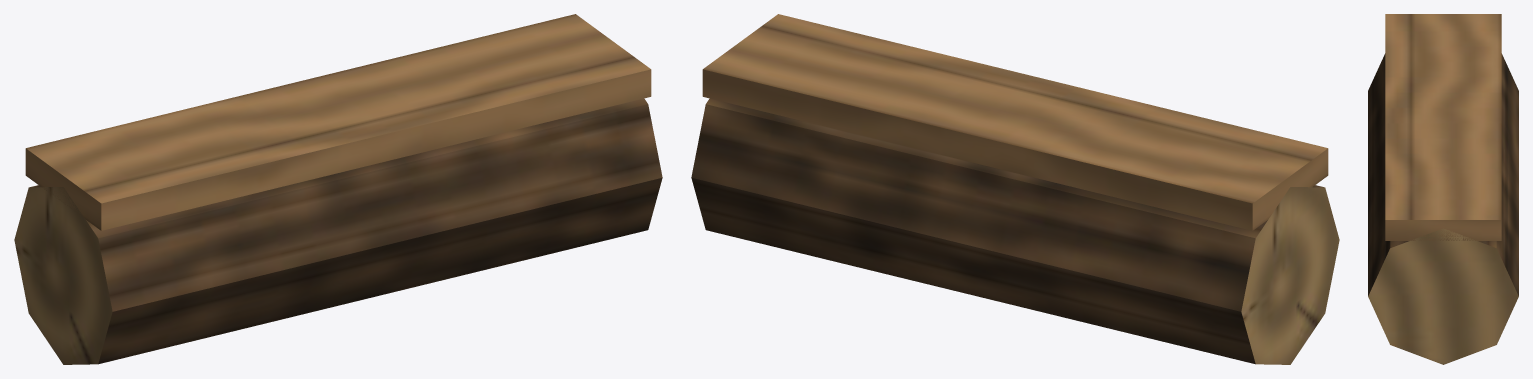
Rendered from prop_houtblok.glb.
3 views of the same model, side by side, from view 1: azimuth 30°, elevation 25°; view 2: azimuth 150°, elevation 25°; view 3: azimuth 270°, elevation 25° (orthographic). The views are drawn at different scales.
Parts seen in each view (by area): view 1: prop_houtblok; view 2: prop_houtblok; view 3: prop_houtblok.
Boxes of the visible parts, left/top/right/bottom form: prop_houtblok: left=14, top=14, right=662, bottom=364; prop_houtblok: left=691, top=14, right=1339, bottom=364; prop_houtblok: left=1368, top=14, right=1518, bottom=364.
Size of the model in its own units: 0.42 by 0.138 by 0.13.
1 material, 1 textured.
